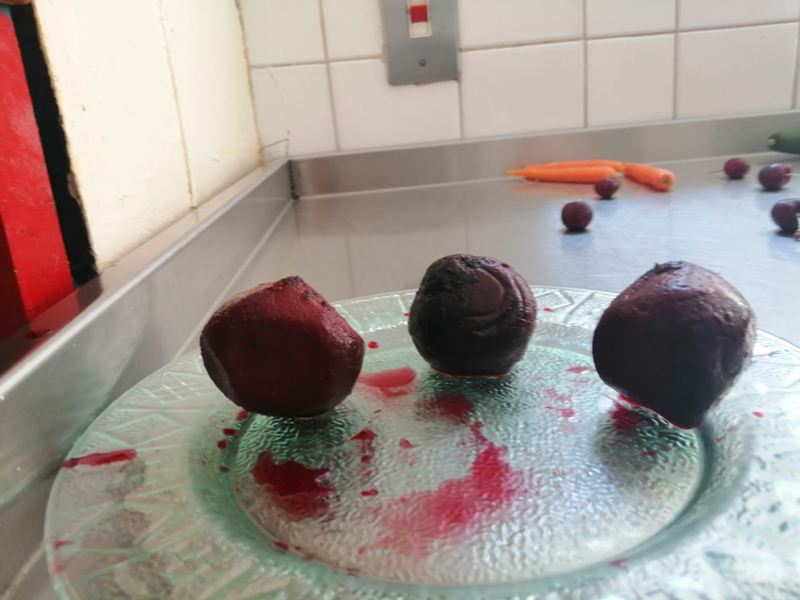beet: (589, 244, 761, 434), (189, 264, 381, 427), (399, 252, 542, 386)
